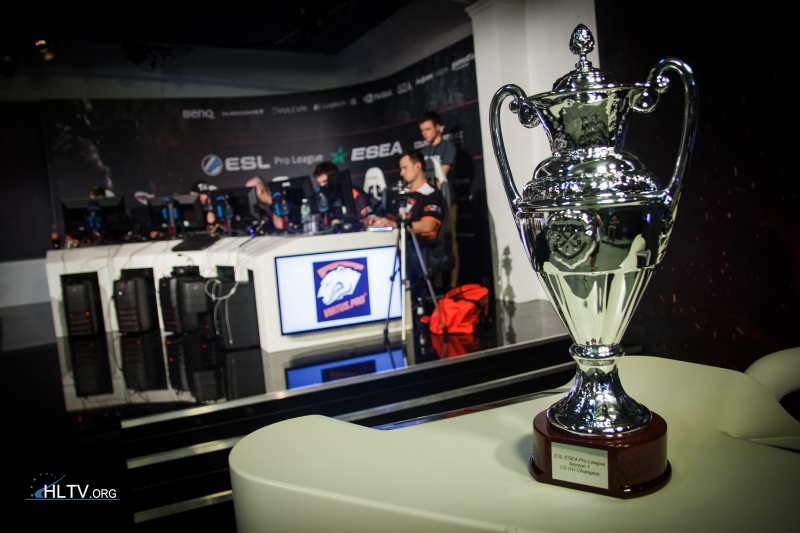trophy: (486, 22, 701, 503)
